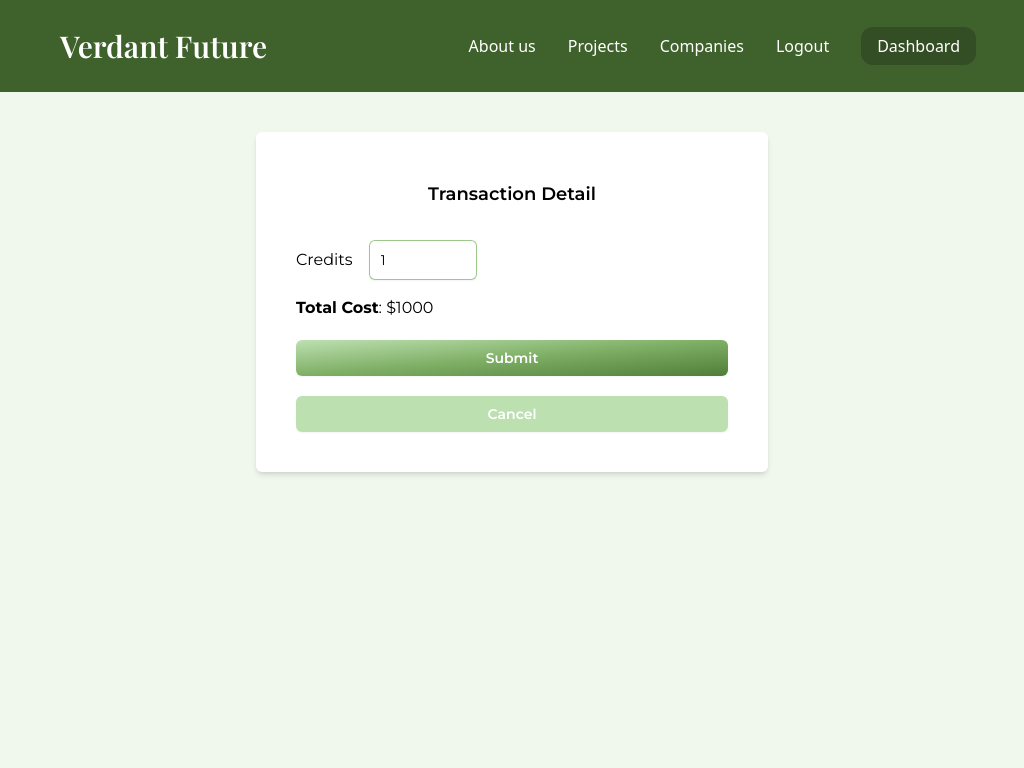
Test case: Transaction Page › handles transaction failure
This screenshot has width=1024, height=768.
What coordinates should you click on to do the following:
click the button "Submit"
I would click on:
 (512, 358)
Its box is [296,340,728,376].
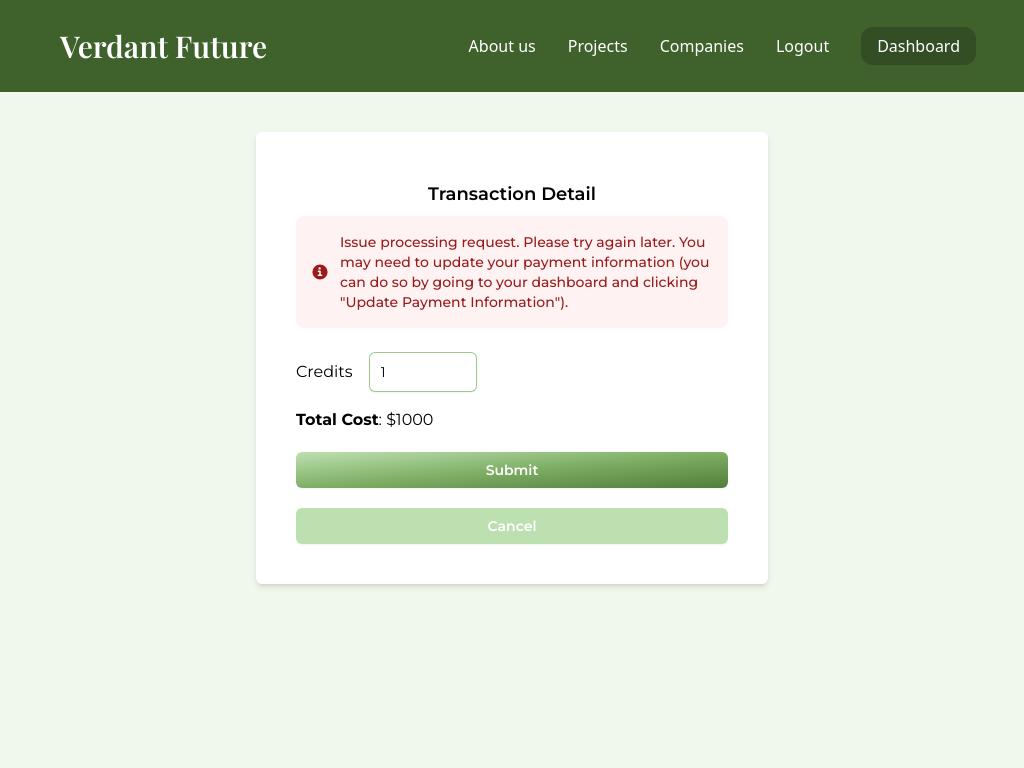
Now the text "Issue processing request. Please try again later." is shown, box [340,233,710,311]
